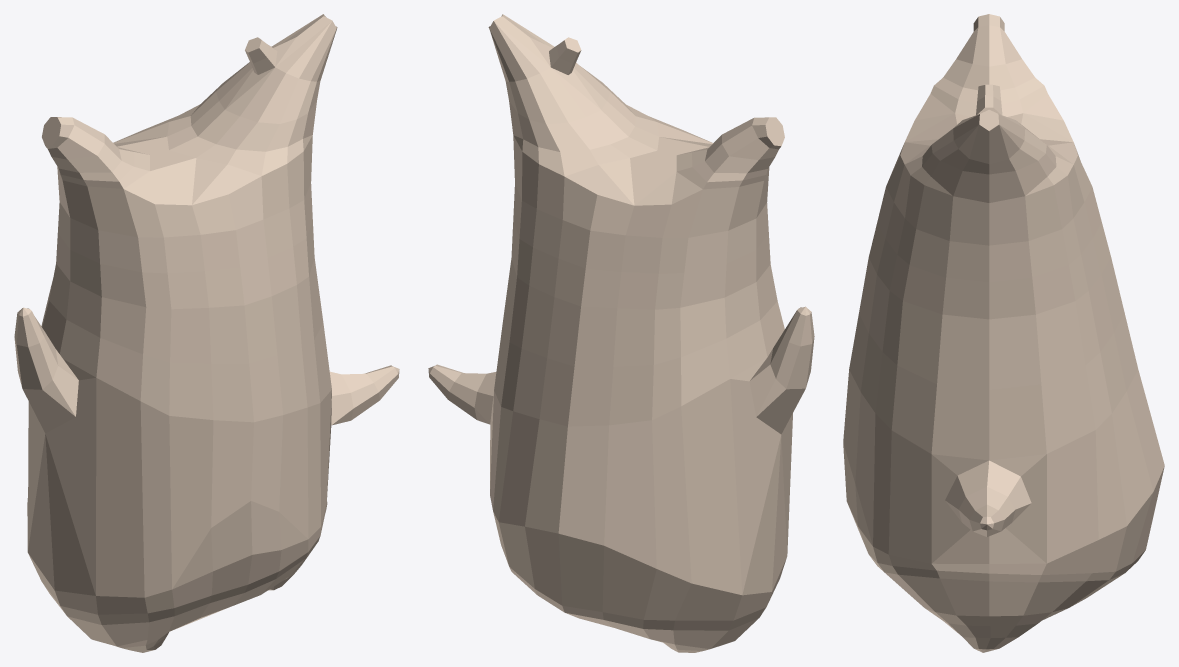
File: frame_0084.obj
3 views of the same model, side by side, from view 1: azimuth 30°, elevation 25°; view 2: azimuth 150°, elevation 25°; view 3: azimuth 270°, elevation 25° (orthographic).
Visible parts, largest first — view 1: korok; view 2: korok; view 3: korok.
Part boxes in pixels (x1,y1,x2,y2): korok: (14,14,399,652); korok: (428,14,814,652); korok: (843,14,1164,652).
Size of the model in its own units: 1.5 by 2.2 by 1.07.
